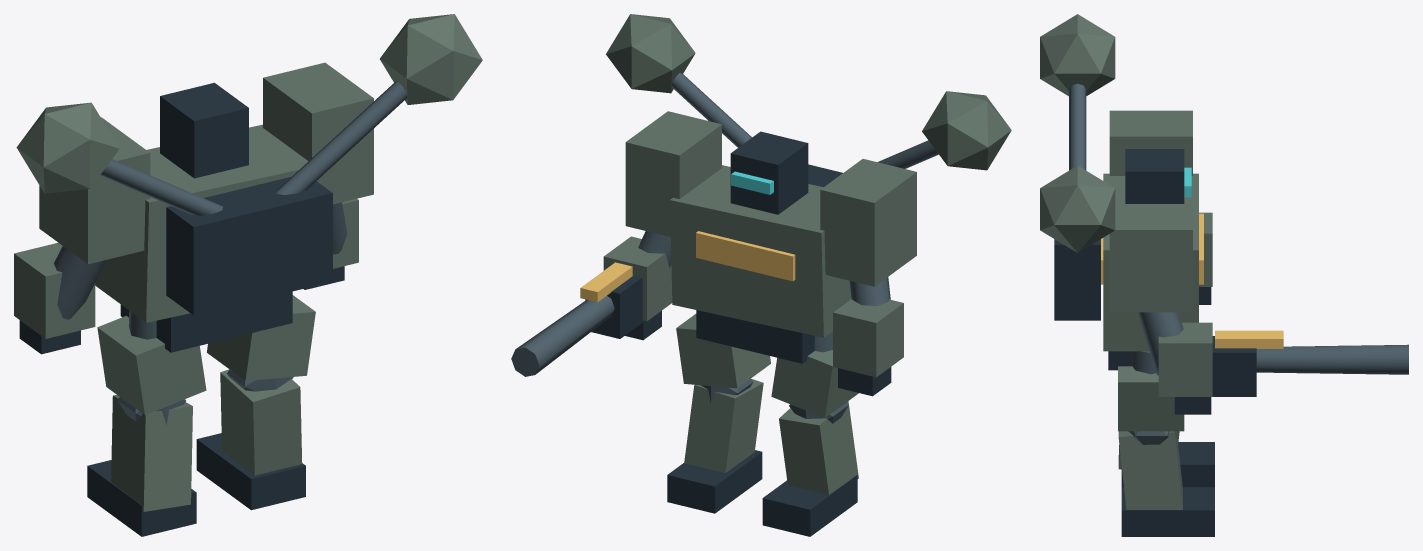
The model's file is frame-balor.glb.
3 renders of one model, left to right at view 1: azimuth 30°, elevation 25°; view 2: azimuth 150°, elevation 25°; view 3: azimuth 270°, elevation 25°, orthographic. The views are drawn at different scales.
Parts seen in each view (by area): view 1: frame-balor; view 2: frame-balor; view 3: frame-balor.
Boxes of the visible parts, bbox=[...] form: frame-balor: bbox=[14, 14, 482, 536]; frame-balor: bbox=[511, 14, 1011, 536]; frame-balor: bbox=[1040, 14, 1408, 536].
Size of the model in its own units: 1.77 by 1.81 by 1.5.
